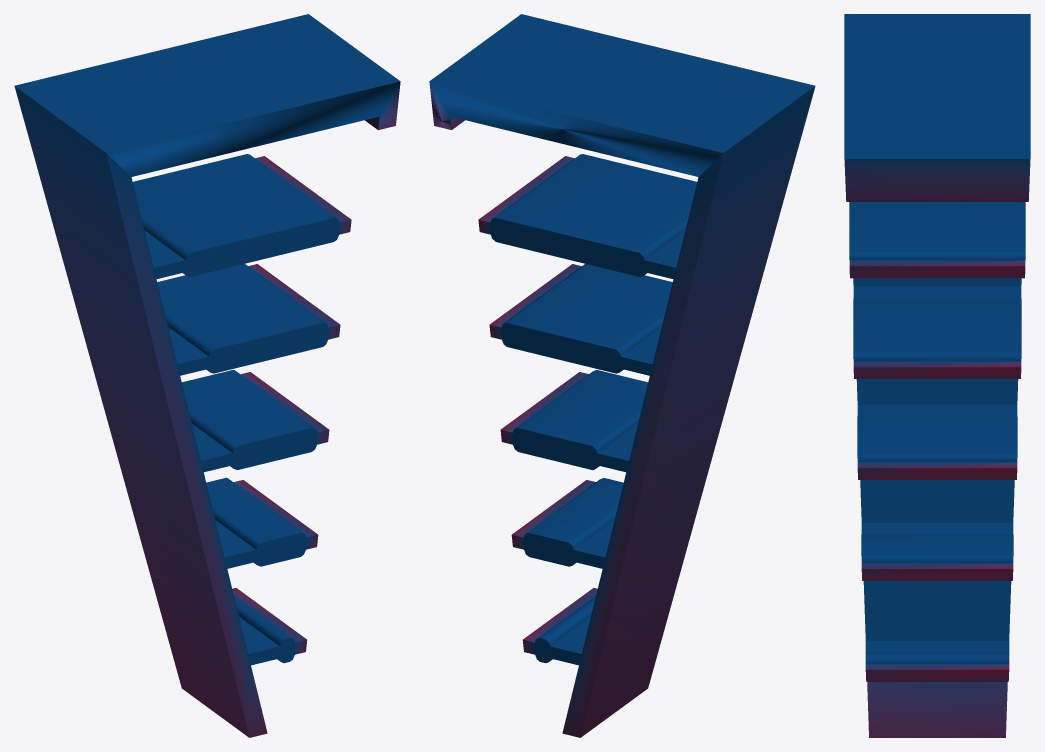
Rendered from softgriper_part3.obj.
The picture shows the model from 3 angles, left to right: view 1: azimuth 30°, elevation 25°; view 2: azimuth 150°, elevation 25°; view 3: azimuth 270°, elevation 25°; orthographic projection.
Bounding box in the file's own units: 0.0289 × 0.0592 × 0.0156.
